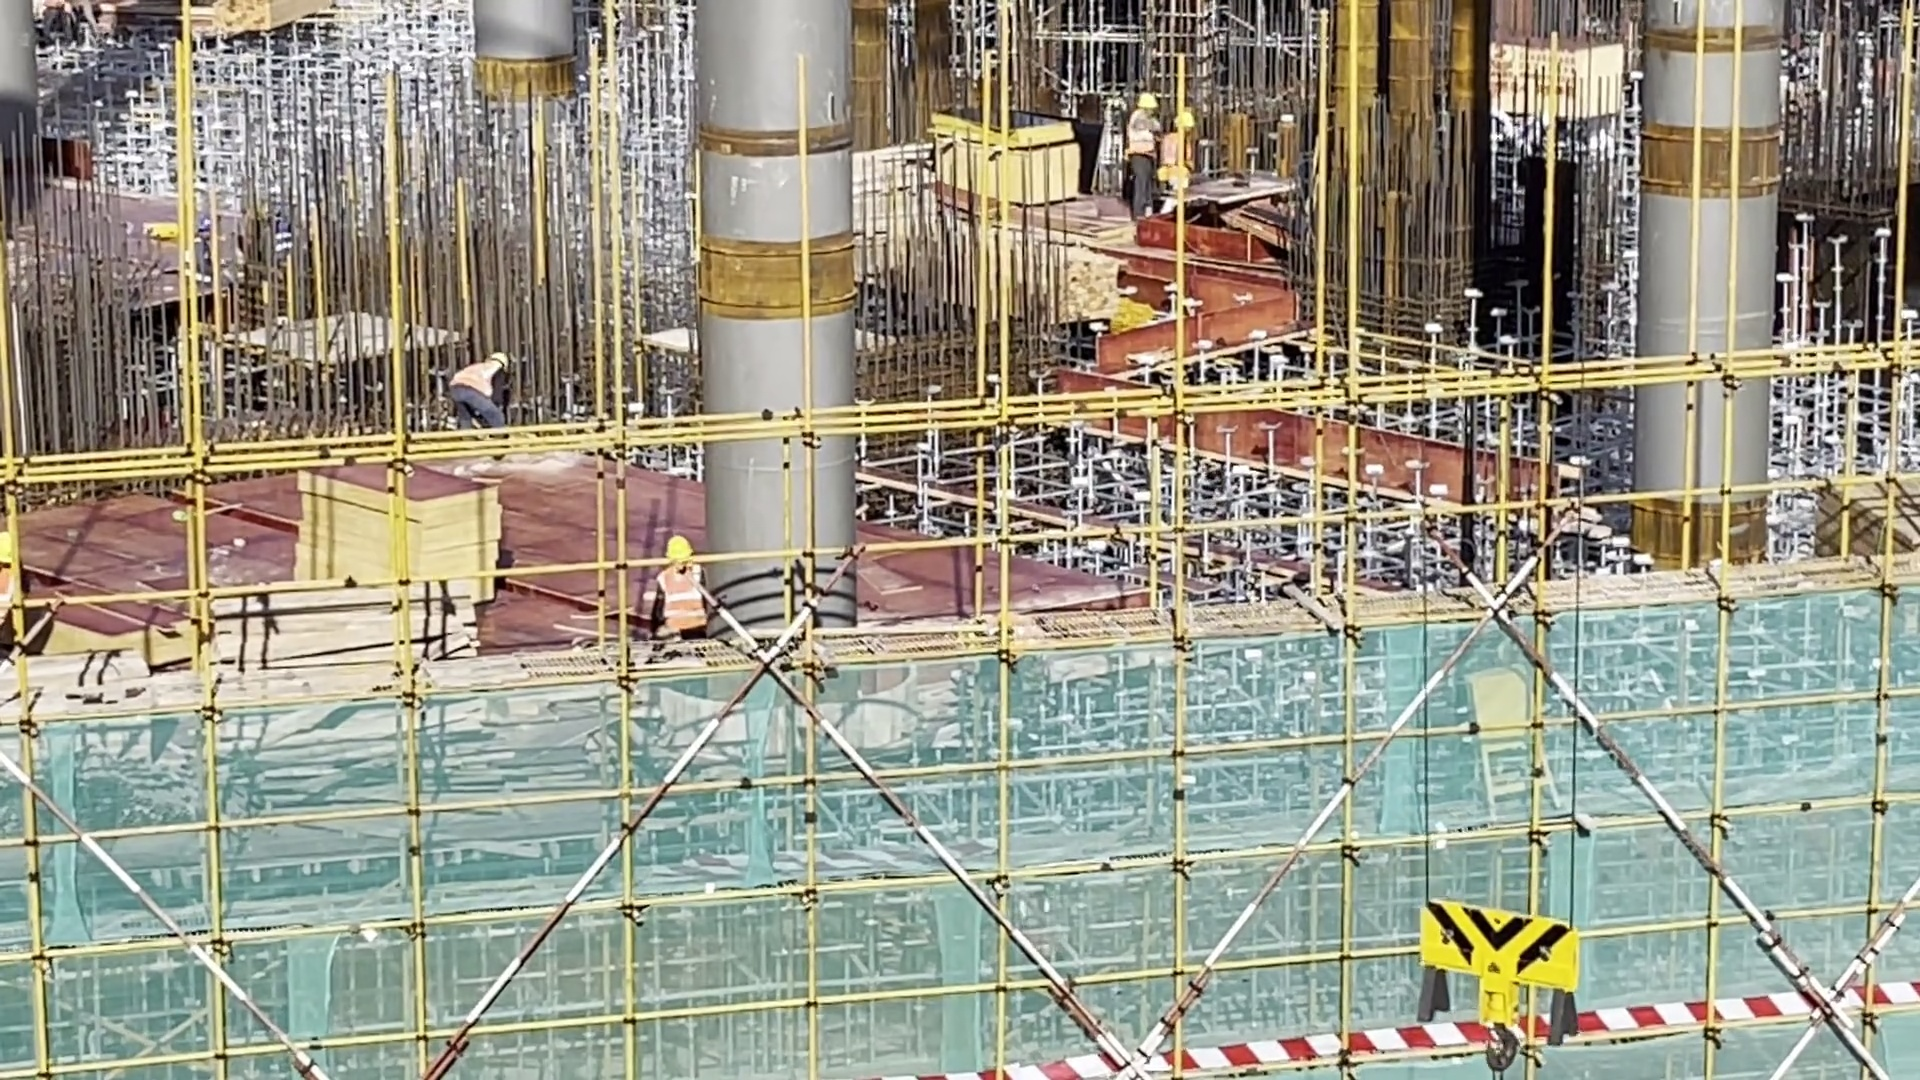board: (298, 463, 515, 606), (930, 99, 1084, 201), (1801, 472, 1920, 573)
ebox: (1463, 655, 1568, 819)
helmet: (664, 535, 695, 566), (1138, 91, 1158, 120), (491, 345, 511, 372), (1173, 109, 1196, 132)
hook: (1391, 871, 1600, 1059)
person: (636, 533, 720, 665), (440, 343, 522, 458), (1129, 83, 1168, 236), (1159, 104, 1204, 223)
vest: (656, 562, 718, 636), (456, 354, 498, 406), (1130, 111, 1158, 159)
wood: (200, 570, 481, 702), (205, 1, 321, 57)
